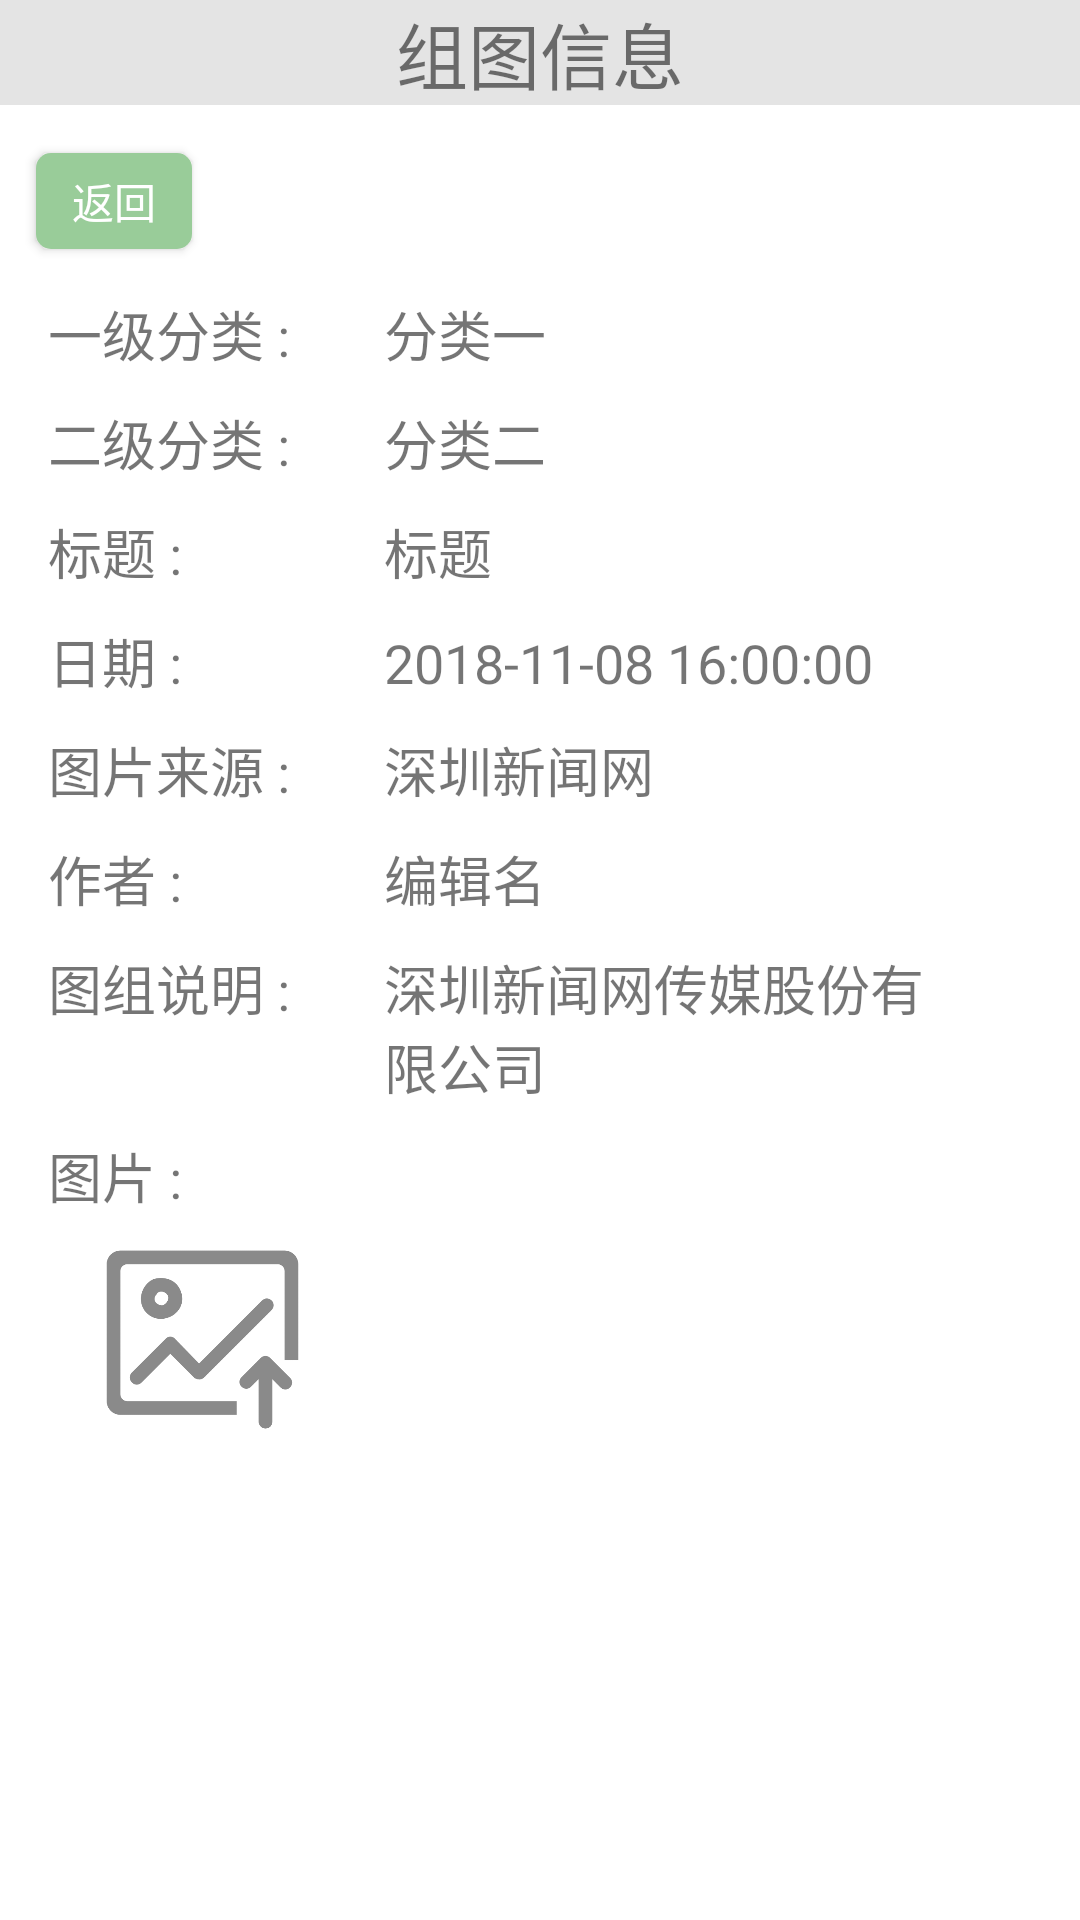

Locate icon controls on the screen. Image size 1080×1920, boxes as detection(x1, y1, x2, y2).
upload: detection(106, 1250, 299, 1429)
